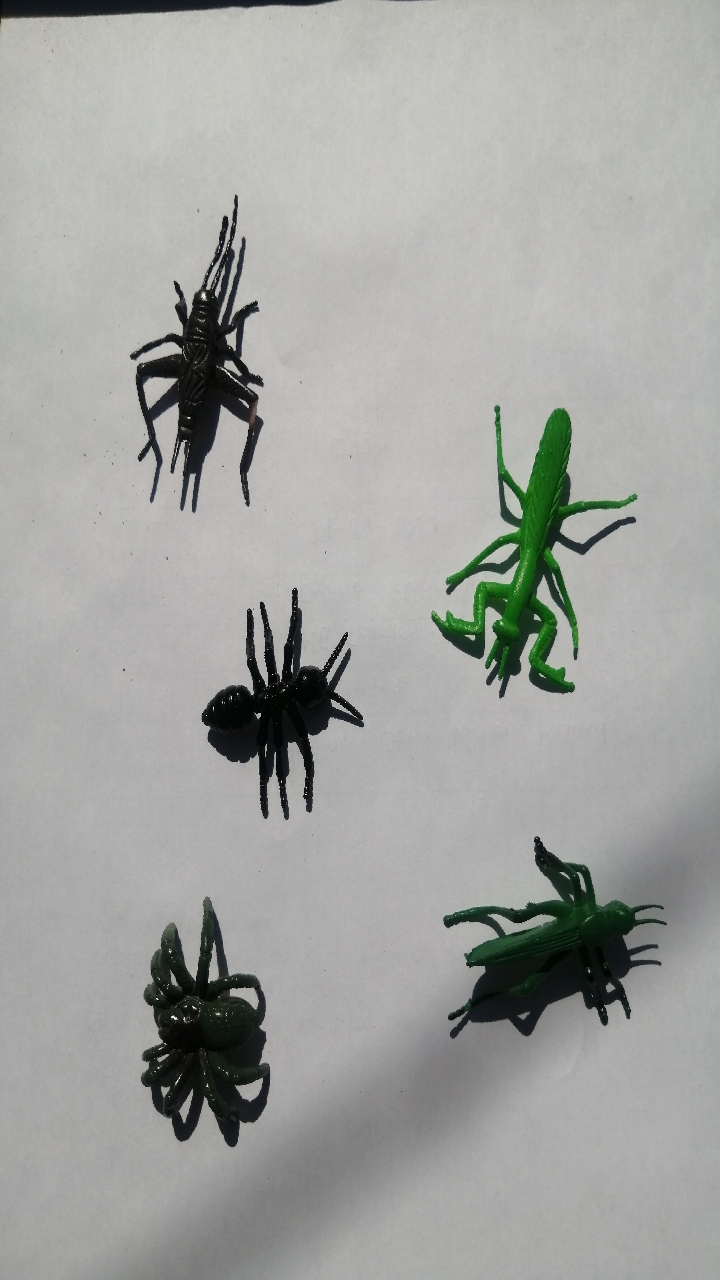intruso: (83, 157, 297, 514), (411, 388, 643, 709), (406, 814, 692, 1068), (106, 883, 315, 1155), (177, 575, 383, 825)
